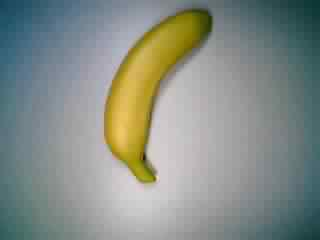banana: (99, 6, 221, 188)
